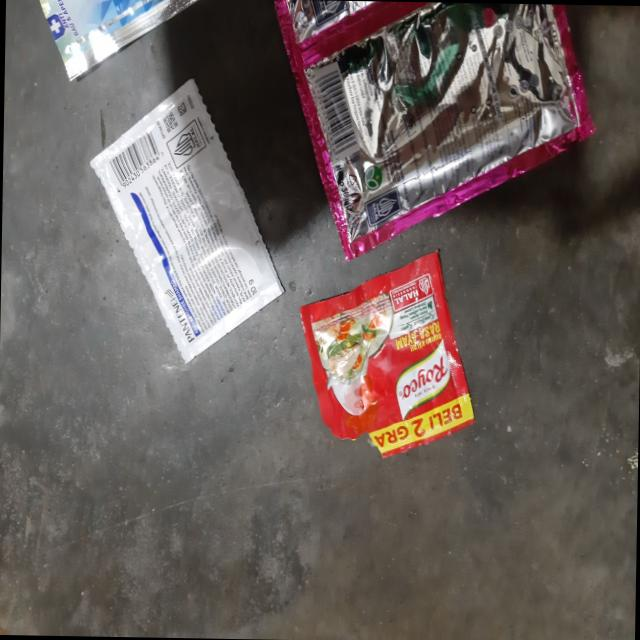KemasanPlastik: (271, 0, 596, 267), (86, 76, 286, 372), (295, 254, 478, 464)
